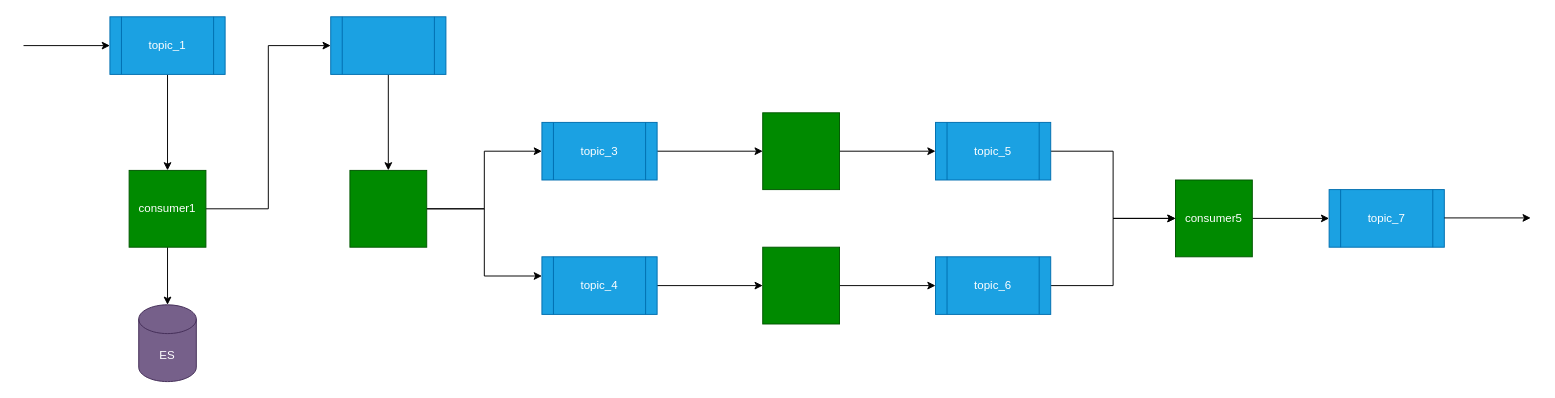
The diagram is 1555 pixels wide and 398 high, and some of its shapes have lost their labels. Here are the shapes that lost their labels. From the top down, the centre of each, then its label:
At [388,45]: "topic_2".
At [801,151]: "consumer3".
At [388,208]: "consumer2".
At [801,285]: "consumer4".
